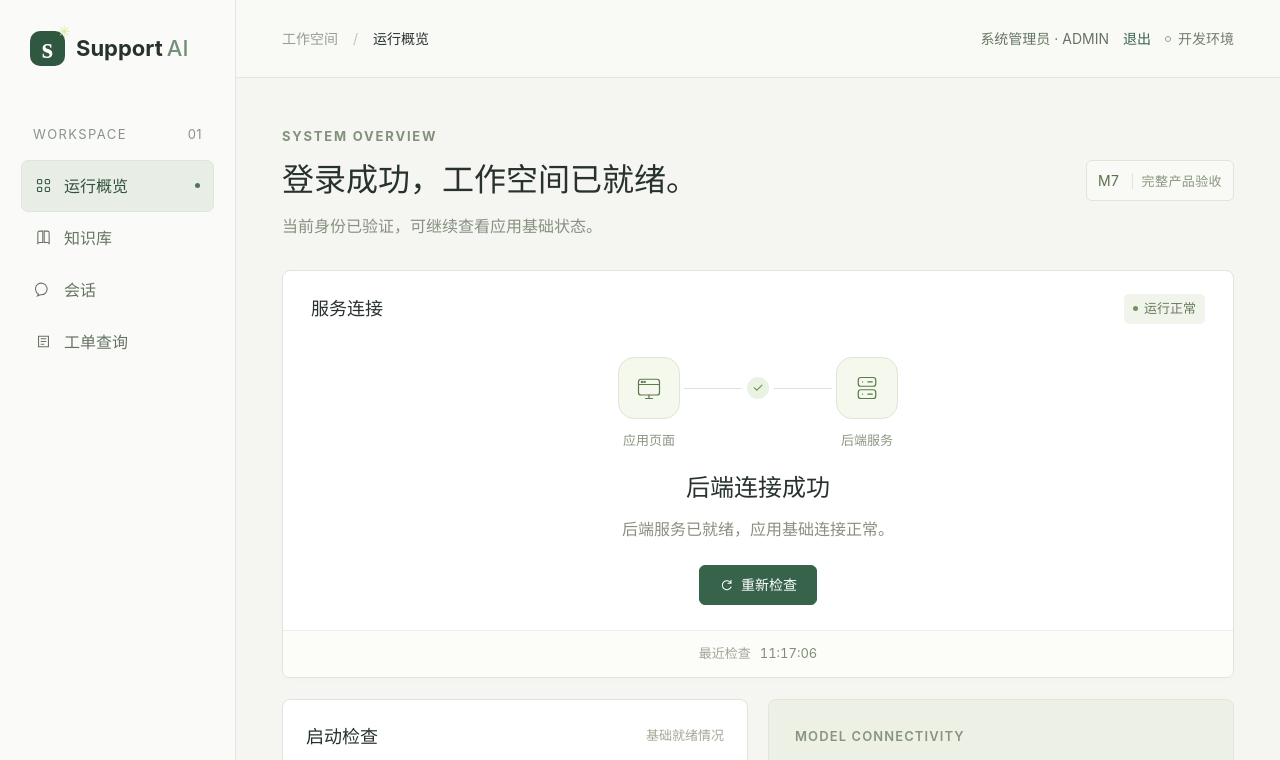
运行概览 › 侧栏可进入工单查询页面
Click the button with class "navigation-item" showing "工单查询" at (118, 342), box [21,316,214,368]
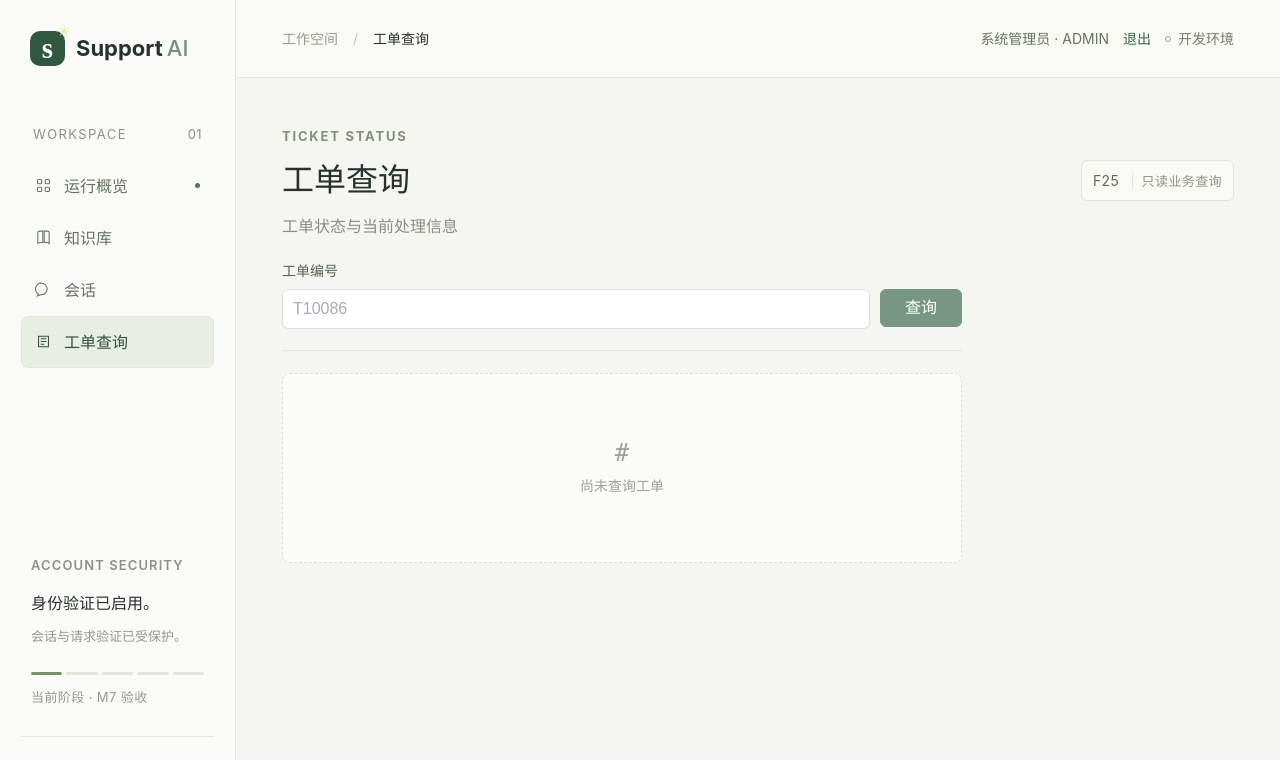
Expected: the heading with id "ticket-heading" reads "工单查询", [282,160,410,199]
Expected: the header with class "topbar" shows "工作空间/工单查询", [236,0,1279,78]
Expected: the field named "ticketNo" is shown, [293,290,859,328]
